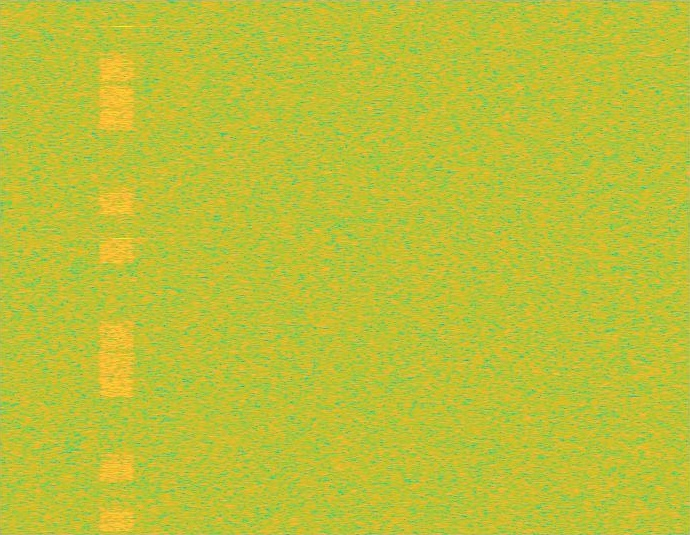LTE: (100, 0, 134, 534)
Radar: (116, 0, 130, 534)
